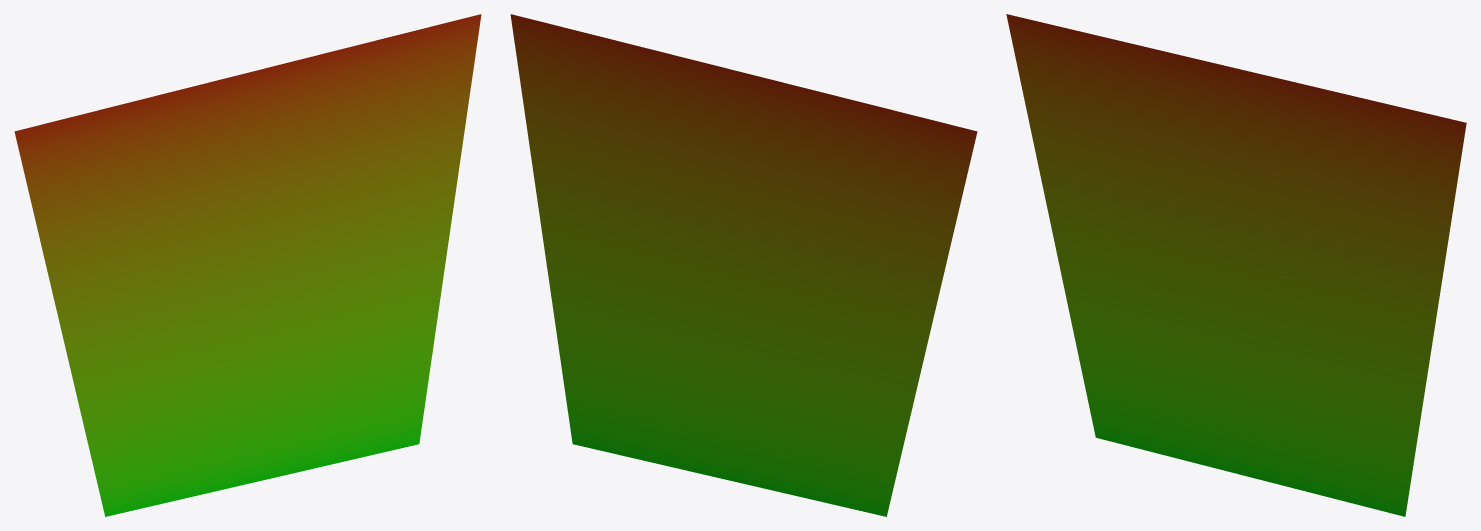
File: Aloe Vera_LOD4_Var9_ve4tbbrha.fbx
3 views of the same model, side by side, from view 1: azimuth 30°, elevation 25°; view 2: azimuth 150°, elevation 25°; view 3: azimuth 330°, elevation 25° (orthographic).
Parts seen in each view (by area): view 1: _62wm_Var9_LOD4; view 2: _62wm_Var9_LOD4; view 3: _62wm_Var9_LOD4.
Boxes of the visible parts, x1,y1,x2,y2 form: _62wm_Var9_LOD4: [14, 14, 481, 516]; _62wm_Var9_LOD4: [510, 14, 977, 516]; _62wm_Var9_LOD4: [1006, 14, 1466, 516].
Size of the model in its own units: 59.05 by 50.14 by 9.18e-06.
